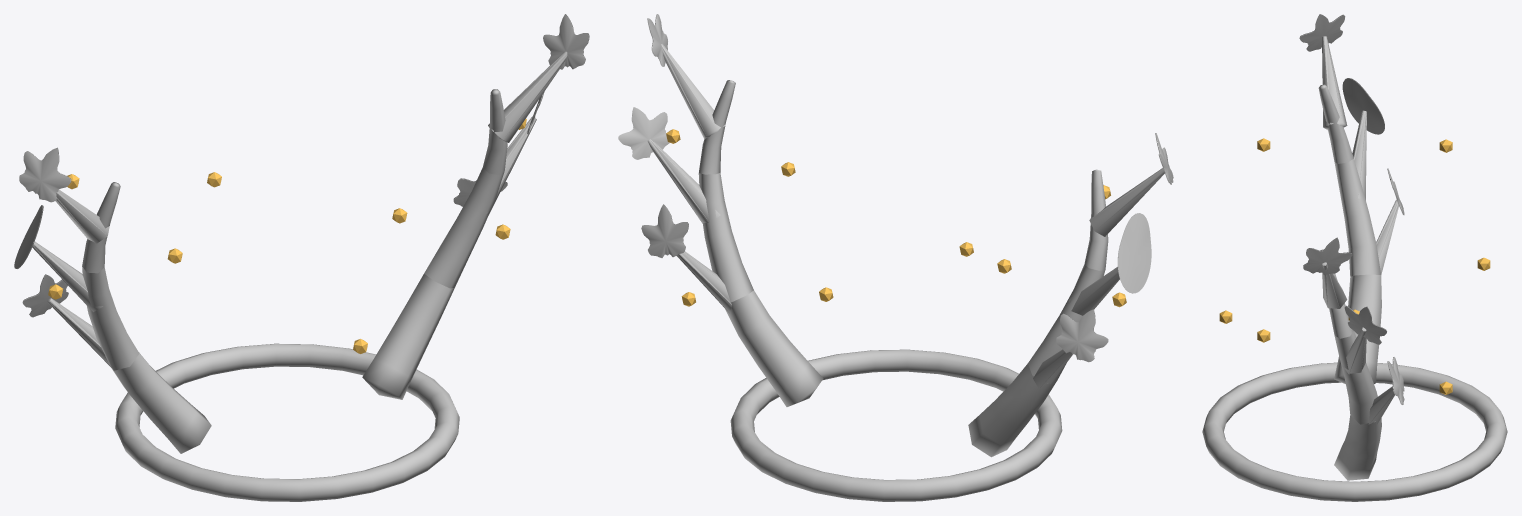
File: AntlerCirclet.obj
3 views of the same model, side by side, from view 1: azimuth 30°, elevation 25°; view 2: azimuth 150°, elevation 25°; view 3: azimuth 270°, elevation 25° (orthographic). The views are drawn at different scales.
Visible parts, largest first — view 1: AntlerOrange, AntlerOrange3, AntlerOrange2, Leaf2, Leaf, Glow, Leaf3; view 2: AntlerOrange, AntlerOrange3, AntlerOrange2, Leaf, Leaf2, Leaf3, Leaf4, Glow; view 3: AntlerOrange, AntlerOrange3, AntlerOrange2, Leaf, Leaf2, Glow, Leaf4.
Boxes of the visible parts, x1=… form: AntlerOrange: x1=33, y1=54, x2=567, y2=501; AntlerOrange3: x1=111, y1=274, x2=454, y2=453; AntlerOrange2: x1=32, y1=51, x2=567, y2=367; Leaf2: x1=19, y1=147, x2=507, y2=206; Leaf: x1=14, y1=14, x2=589, y2=268; Glow: x1=48, y1=119, x2=526, y2=353; Leaf3: x1=22, y1=274, x2=68, y2=317; AntlerOrange: x1=649, y1=45, x2=1164, y2=501; AntlerOrange3: x1=725, y1=290, x2=1057, y2=457; AntlerOrange2: x1=647, y1=44, x2=1164, y2=387; Leaf: x1=647, y1=14, x2=1151, y2=293; Leaf2: x1=641, y1=133, x2=1173, y2=257; Leaf3: x1=1056, y1=309, x2=1108, y2=362; Leaf4: x1=618, y1=107, x2=669, y2=159; Glow: x1=666, y1=129, x2=1126, y2=307; AntlerOrange: x1=1202, y1=37, x2=1507, y2=501; AntlerOrange3: x1=1334, y1=274, x2=1381, y2=480; AntlerOrange2: x1=1318, y1=36, x2=1398, y2=424; Leaf: x1=1303, y1=78, x2=1384, y2=274; Leaf2: x1=1299, y1=14, x2=1404, y2=404; Glow: x1=1219, y1=138, x2=1490, y2=394; Leaf4: x1=1344, y1=305, x2=1386, y2=344.
Bounding box in the file's own units: 2.62 × 1.64 × 1.42.
